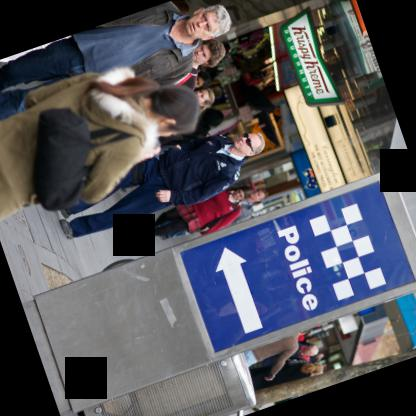handbag: (35, 107, 133, 212), (197, 206, 240, 234)
